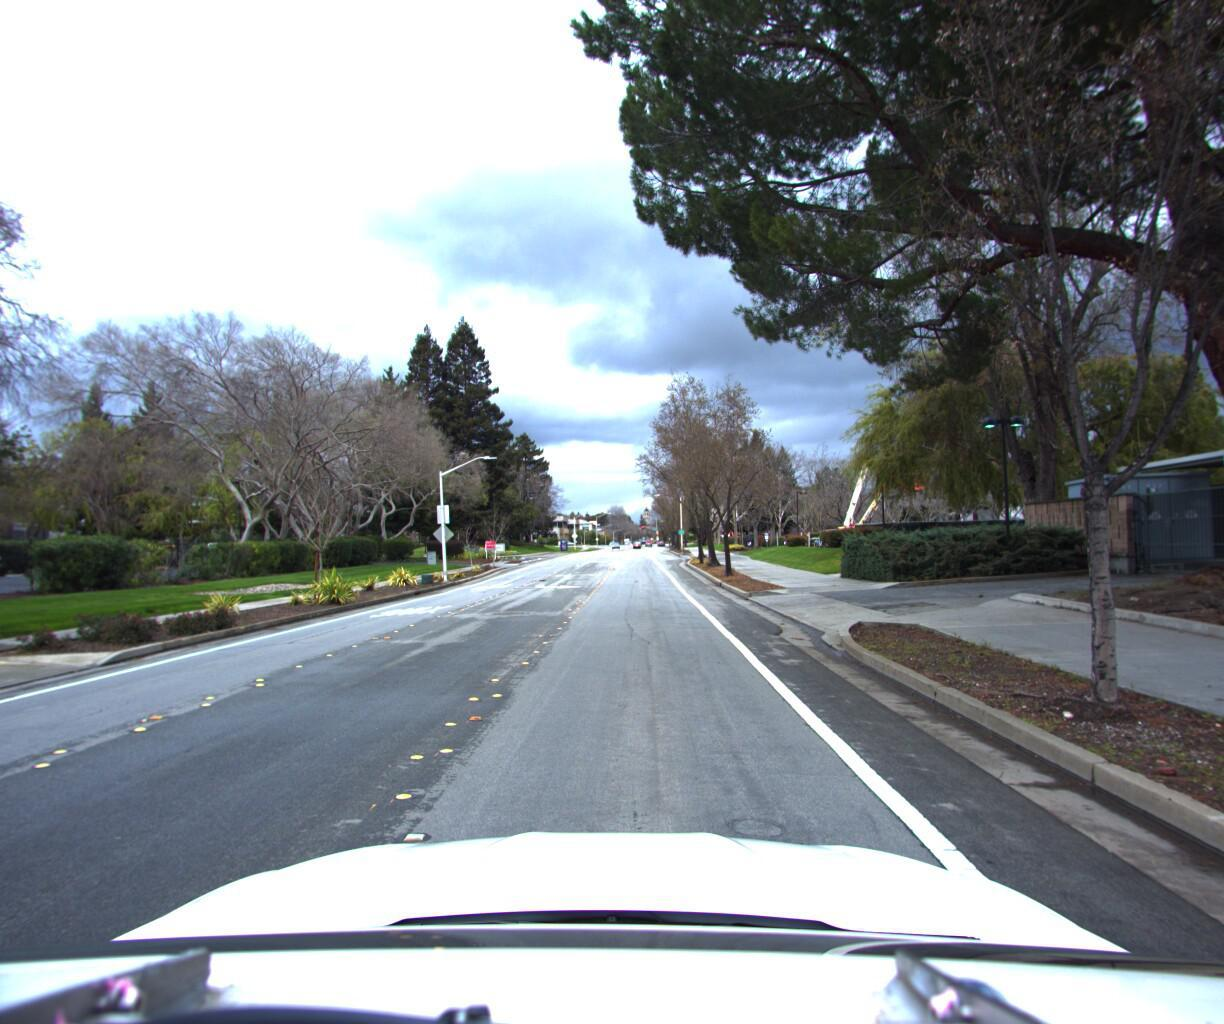other_vehicle: (806, 428, 888, 544), (816, 466, 927, 543)
